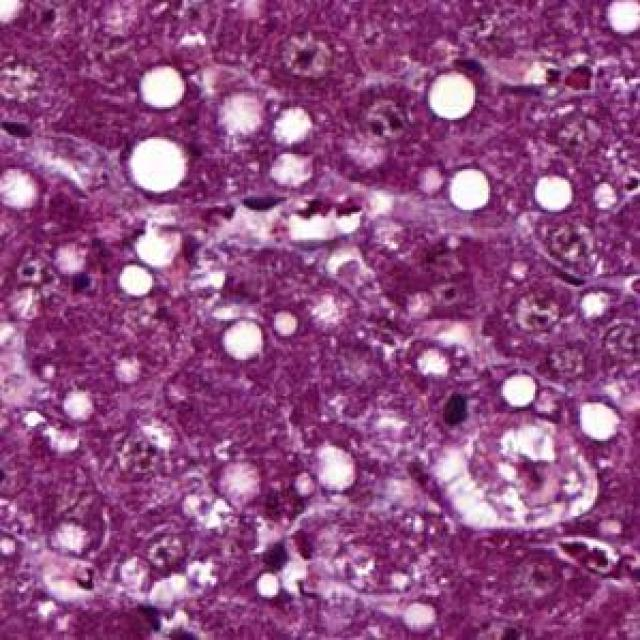ballooning: (420, 409, 604, 539)
